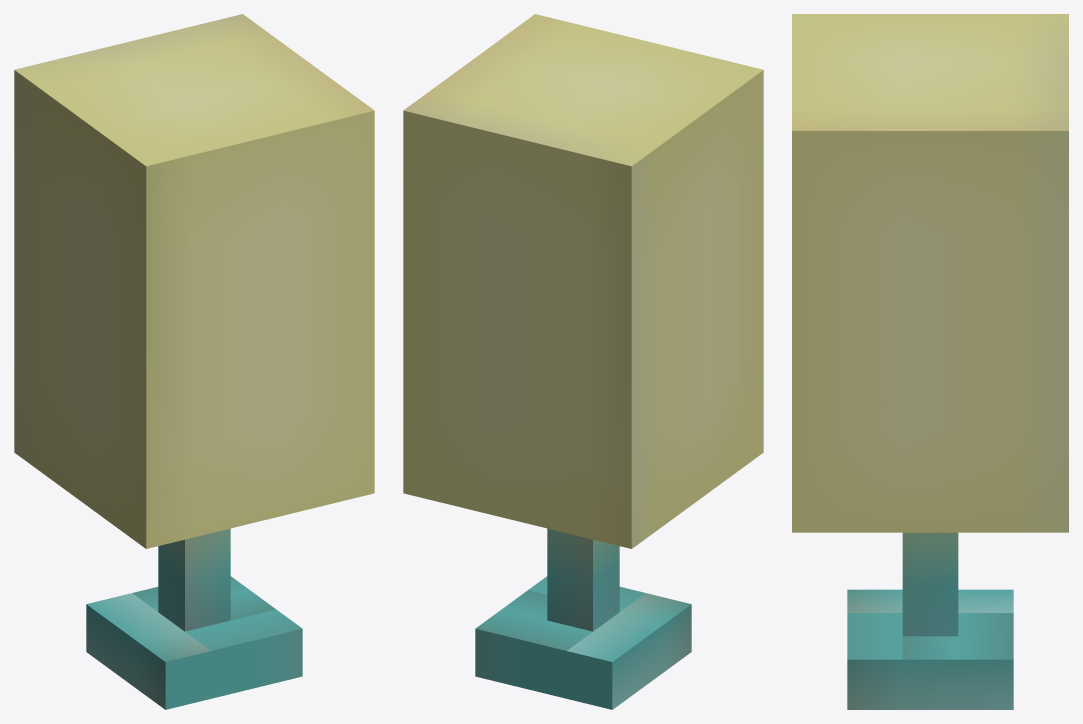
File: LampYellowBlueBase_00.fbx
The picture shows the model from 3 angles, left to right: view 1: azimuth 30°, elevation 25°; view 2: azimuth 150°, elevation 25°; view 3: azimuth 270°, elevation 25°; orthographic projection. The views are drawn at different scales.
Parts seen in each view (by area): view 1: LampYellowBlueBase_00; view 2: LampYellowBlueBase_00; view 3: LampYellowBlueBase_00.
Part boxes in pixels (x1,y1,x2,y2): LampYellowBlueBase_00: [14, 14, 374, 709]; LampYellowBlueBase_00: [403, 14, 763, 709]; LampYellowBlueBase_00: [792, 14, 1068, 709].
Bounding box in the file's own units: 25 × 25 × 60.
2 materials, 2 textured.
